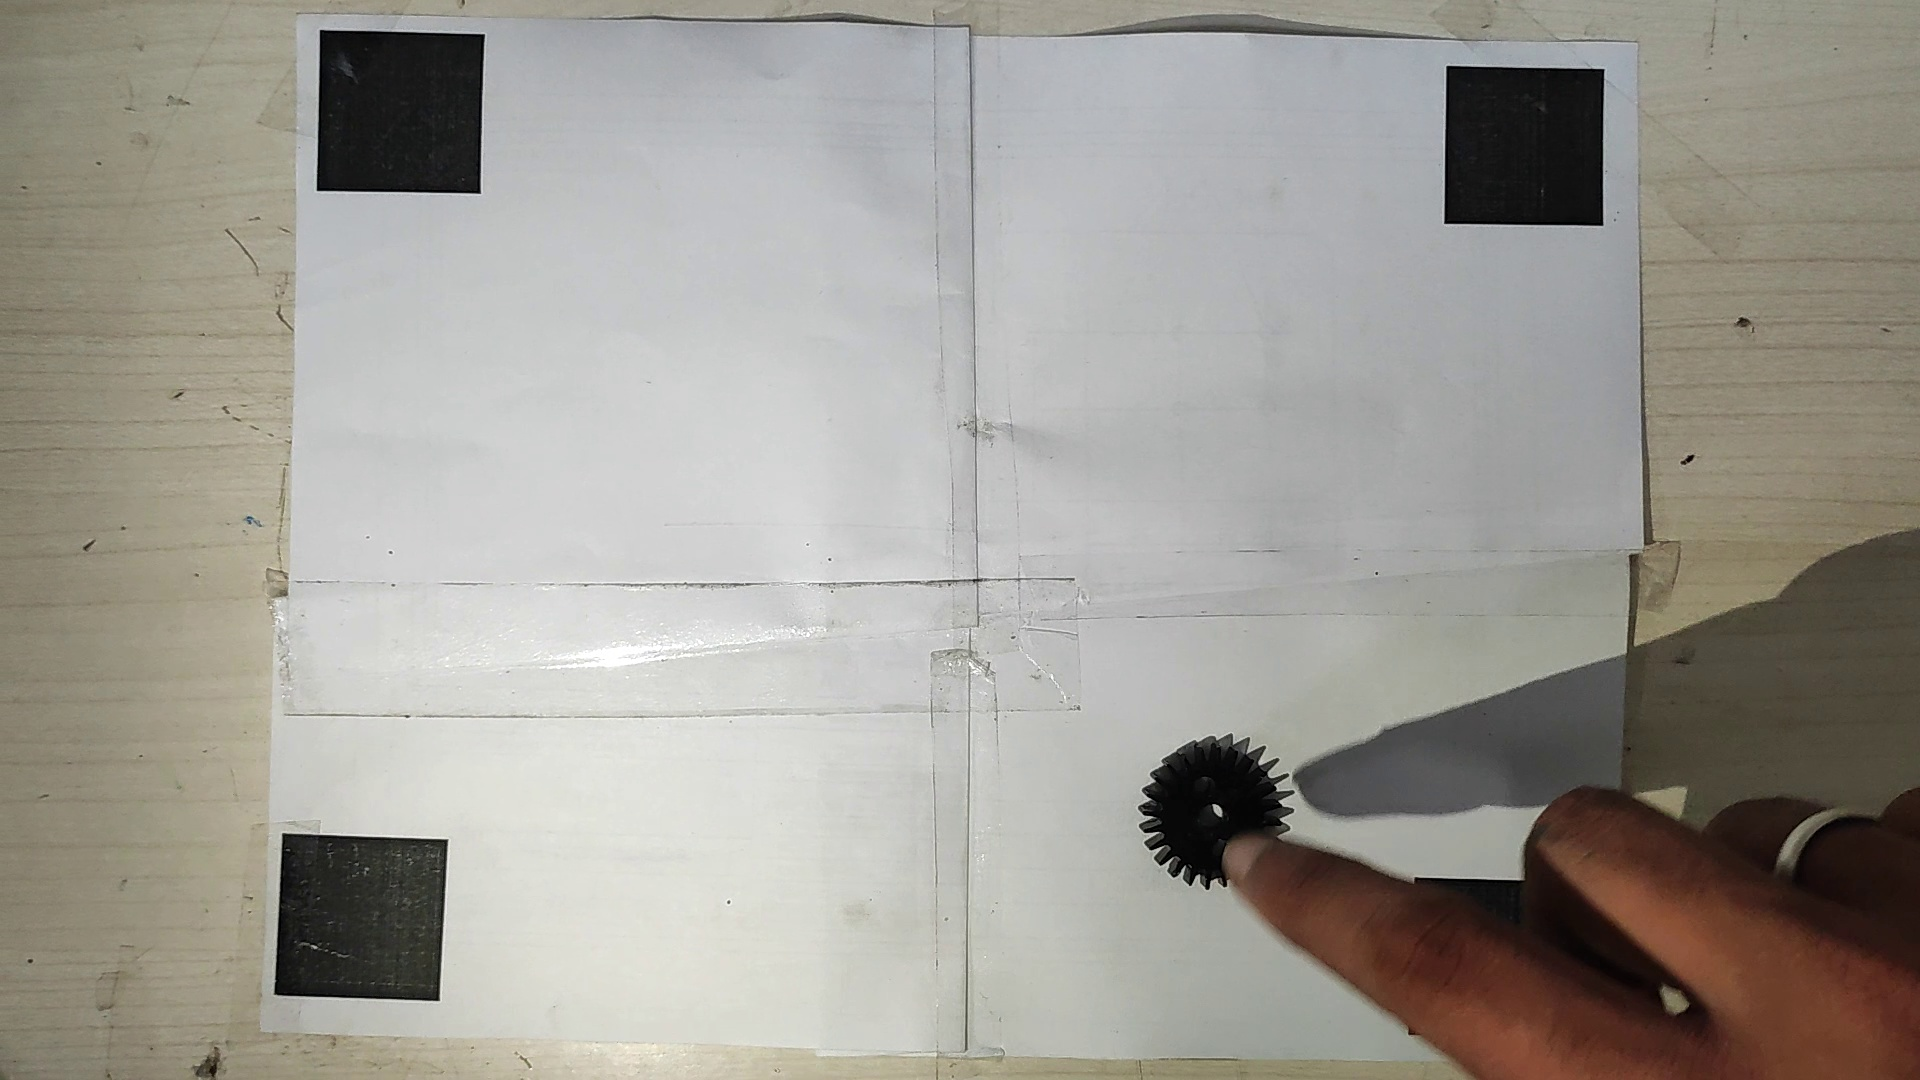Gear: (1134, 727, 1296, 891)
